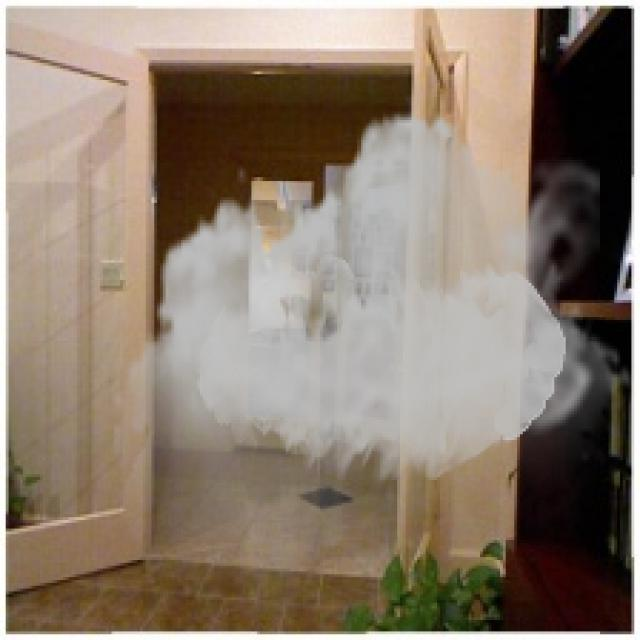smoke: (115, 91, 634, 634)
